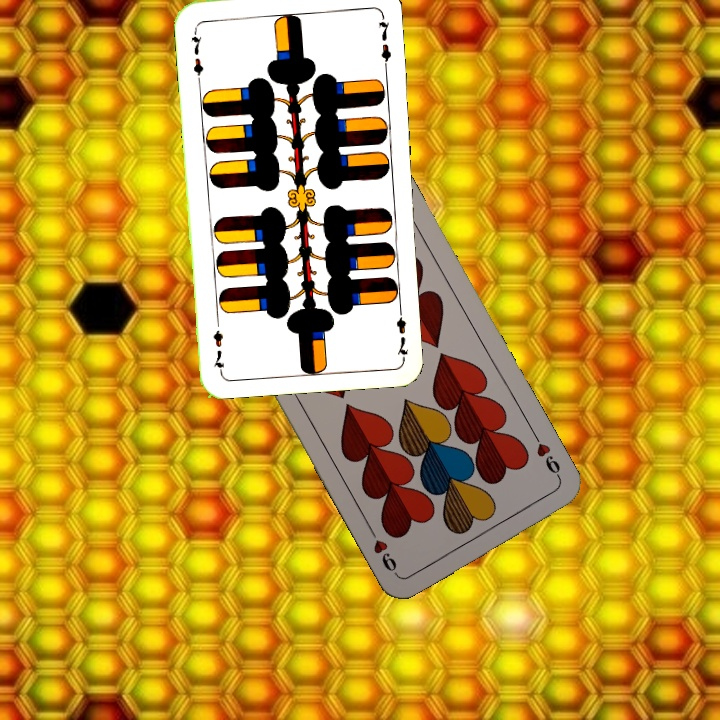E7: (392, 301, 411, 360), (188, 24, 206, 83)
H9: (529, 429, 564, 483)
